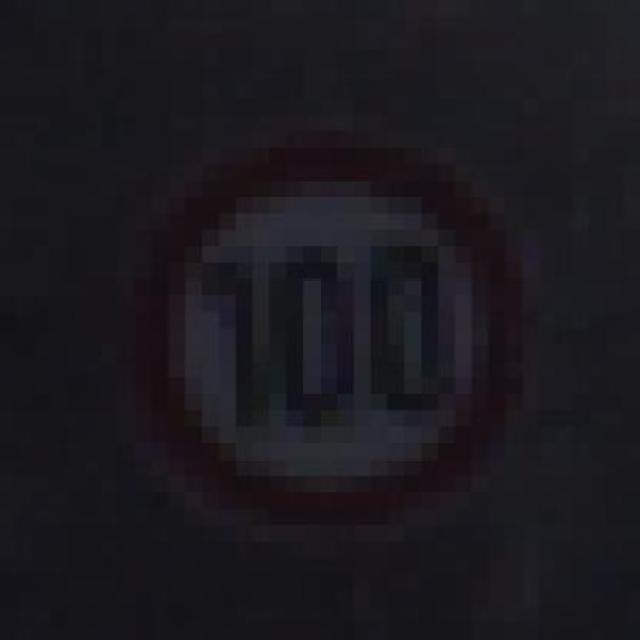forb_speed_over_100: (133, 138, 525, 535)
